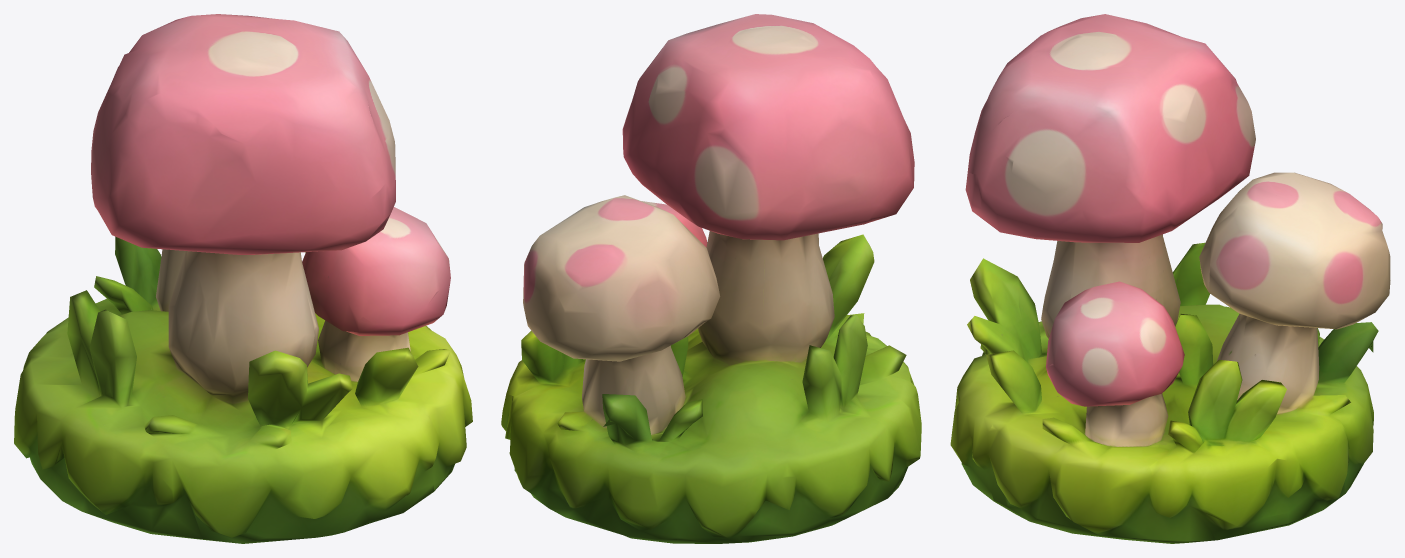
The model's file is Kit_M_Mushrooms_raw.glb.
The picture shows the model from 3 angles, left to right: view 1: azimuth 30°, elevation 25°; view 2: azimuth 150°, elevation 25°; view 3: azimuth 270°, elevation 25°; orthographic projection. The views are drawn at different scales.
Parts seen in each view (by area): view 1: tripo_node_b7e6ea81-ecd1-4191-a86e-7de05fa94692; view 2: tripo_node_b7e6ea81-ecd1-4191-a86e-7de05fa94692; view 3: tripo_node_b7e6ea81-ecd1-4191-a86e-7de05fa94692.
Part boxes in pixels (x1,y1,x2,y2): tripo_node_b7e6ea81-ecd1-4191-a86e-7de05fa94692: [14, 14, 472, 543]; tripo_node_b7e6ea81-ecd1-4191-a86e-7de05fa94692: [501, 14, 921, 543]; tripo_node_b7e6ea81-ecd1-4191-a86e-7de05fa94692: [950, 14, 1390, 543].
Bounding box in the file's own units: 0.9293 × 1 × 0.9786.
Materials: 1 (1 with a texture image).
